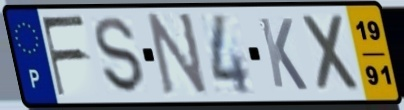4: (208, 12, 255, 98)
F: (39, 14, 90, 100)
K: (256, 15, 310, 93)
N: (146, 10, 211, 99)
S: (92, 15, 147, 96)
X: (299, 11, 364, 95)
